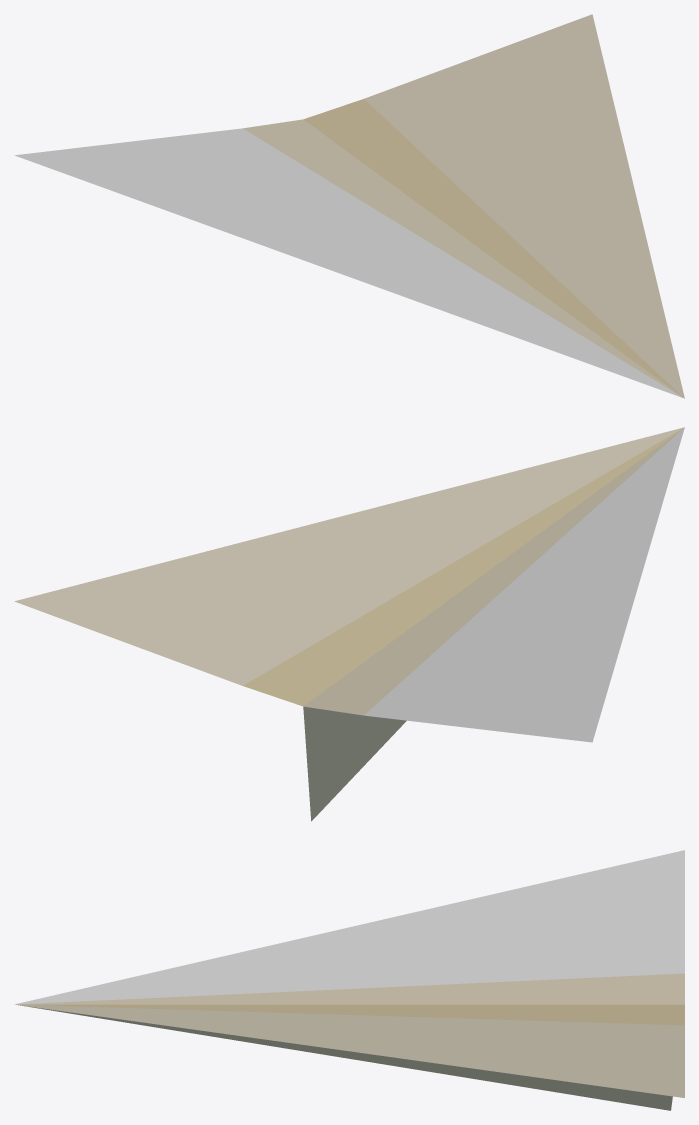
File: ucak.glb
3 renders of one model, top to bottom at view 1: azimuth 30°, elevation 25°; view 2: azimuth 150°, elevation 25°; view 3: azimuth 270°, elevation 25°, orthographic. The views are drawn at different scales.
Visible parts, largest first — view 1: KagitUcak; view 2: KagitUcak; view 3: KagitUcak.
Boxes of the visible parts, bbox=[...] form: KagitUcak: bbox=[14, 14, 684, 398]; KagitUcak: bbox=[14, 427, 684, 821]; KagitUcak: bbox=[14, 850, 684, 1110].
Bounding box in the file's own units: 2.1 × 0.54 × 2.4.
